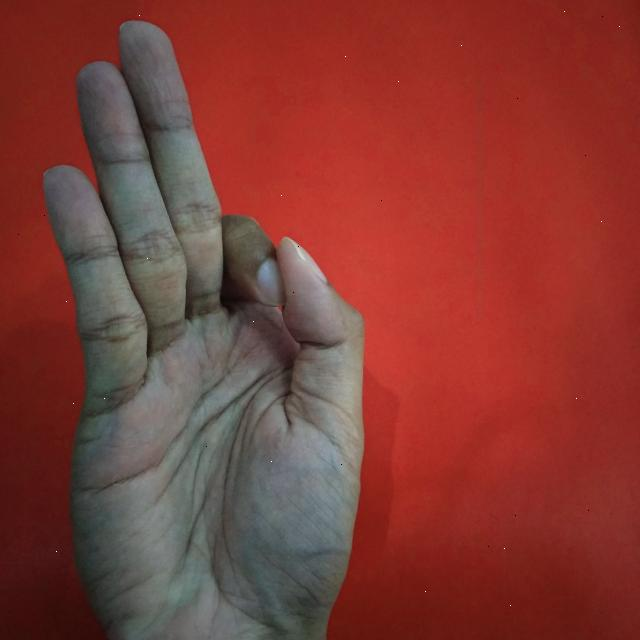F: (41, 17, 370, 640)
